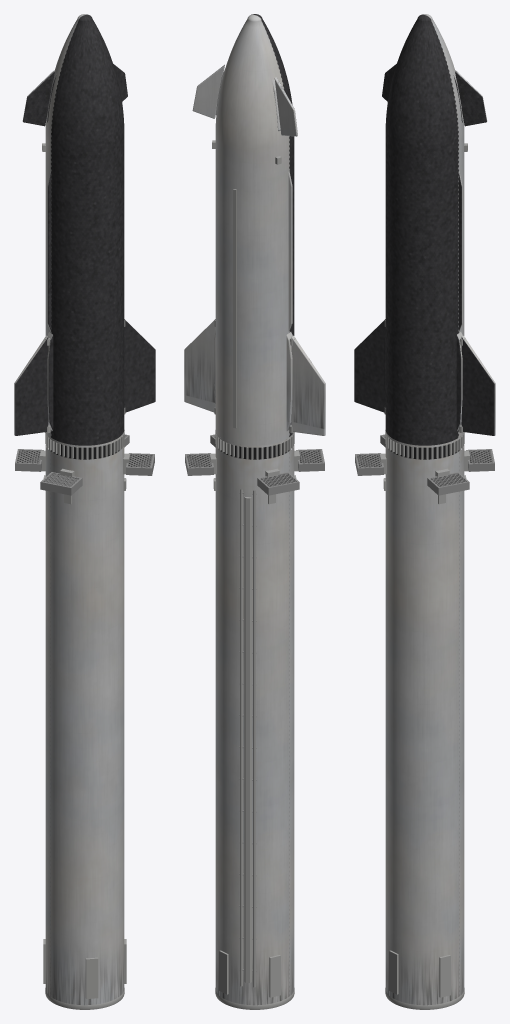
Rendered from spacex-starship.glb.
3 views of the same model, side by side, from view 1: azimuth 30°, elevation 25°; view 2: azimuth 150°, elevation 25°; view 3: azimuth 330°, elevation 25° (orthographic).
Parts seen in each view (by area): view 1: Starship_Block2_stack; view 2: Starship_Block2_stack; view 3: Starship_Block2_stack.
Part boxes in pixels (x1,y1,x2,y2): Starship_Block2_stack: (14, 14, 155, 1009); Starship_Block2_stack: (184, 14, 325, 1009); Starship_Block2_stack: (354, 14, 495, 1009).
Bounding box in the file's own units: 18.5 × 123 × 12.2.
Materials: 8 (1 with a texture image).
